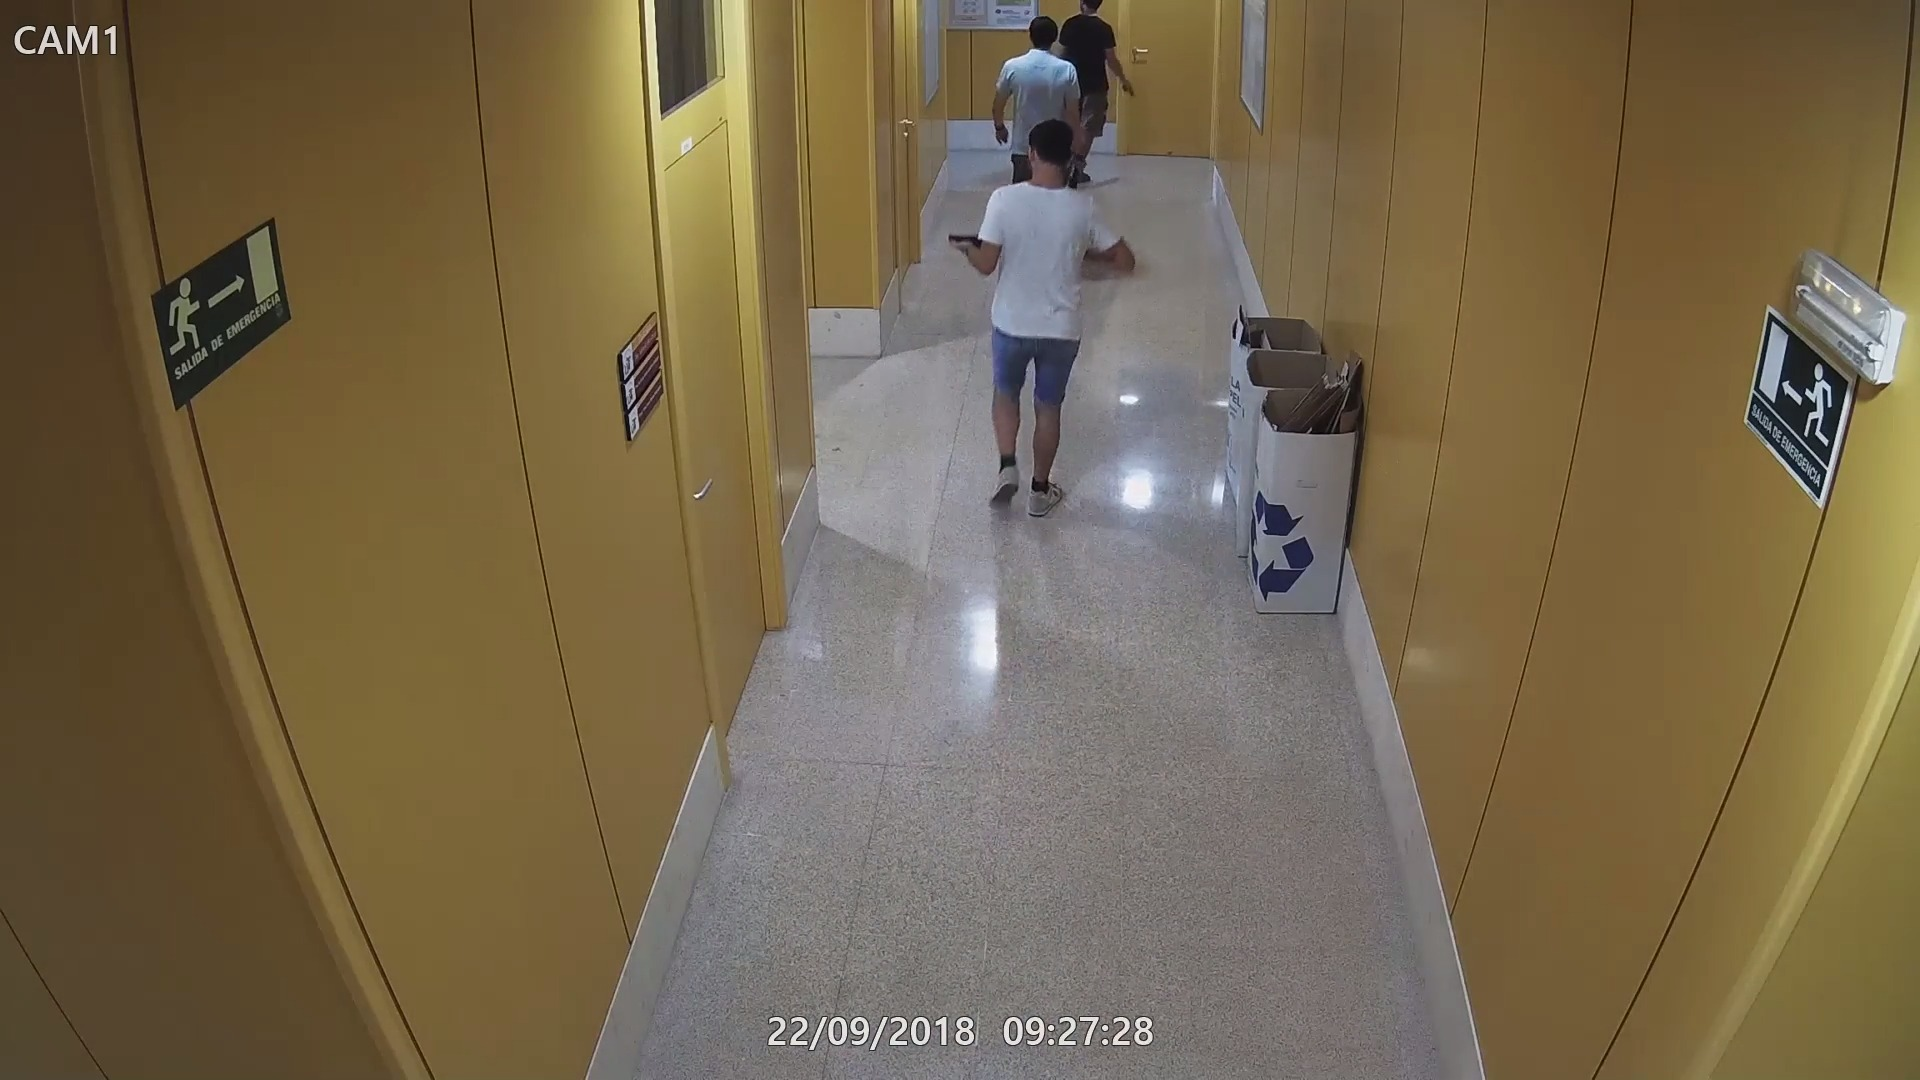Handgun: (1118, 74, 1145, 102)
Short_rifle: (942, 227, 982, 260)
